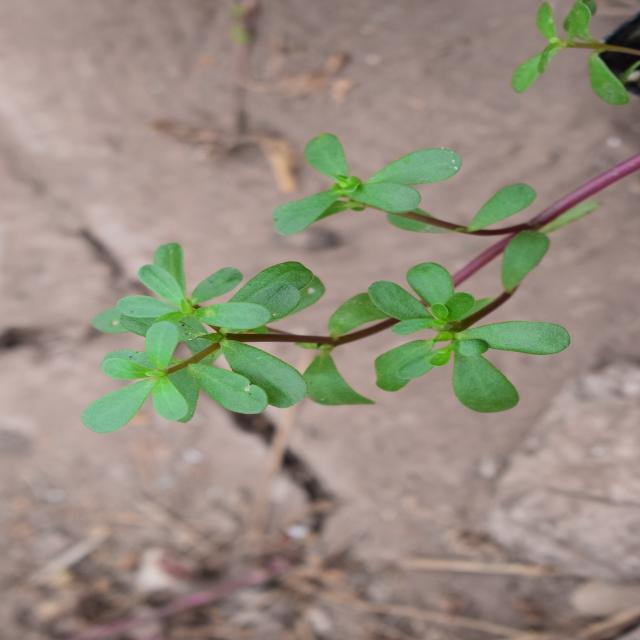purslane: (173, 70, 469, 557)
